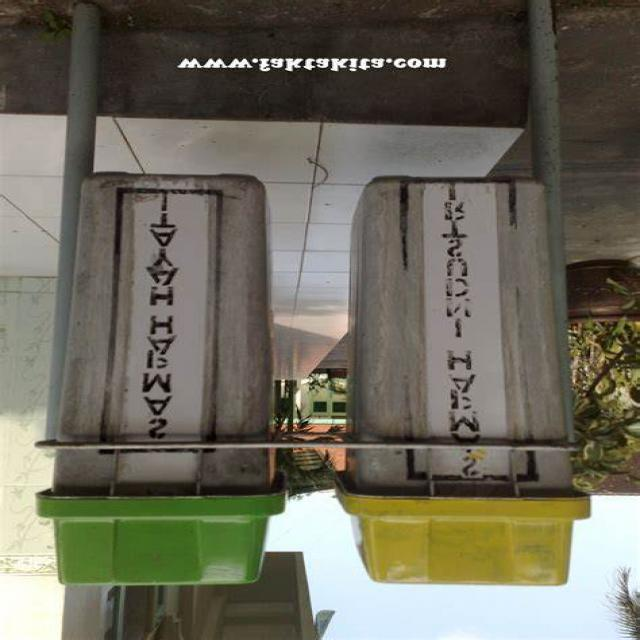garbage container: (1, 160, 322, 592), (351, 162, 640, 598)
